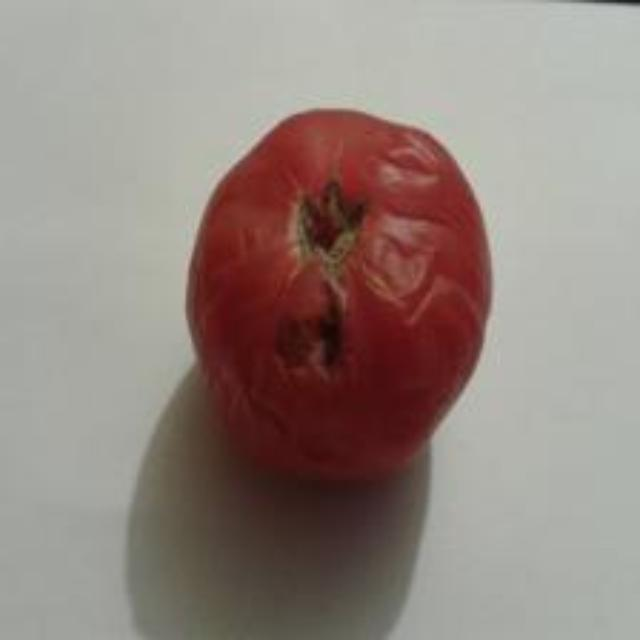defect: (180, 92, 502, 497)
